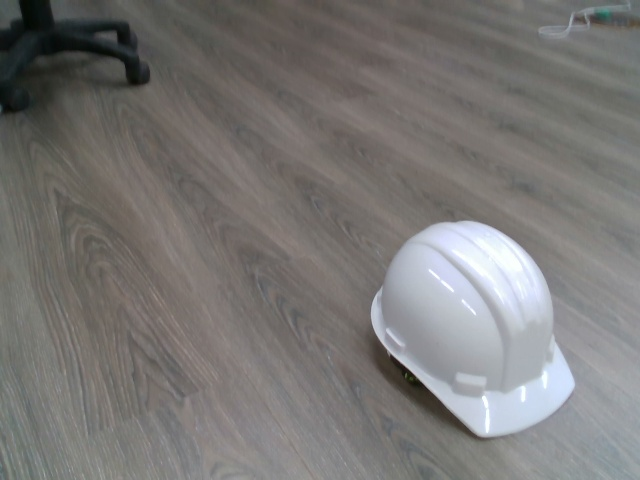helmet: (365, 216, 580, 441)
